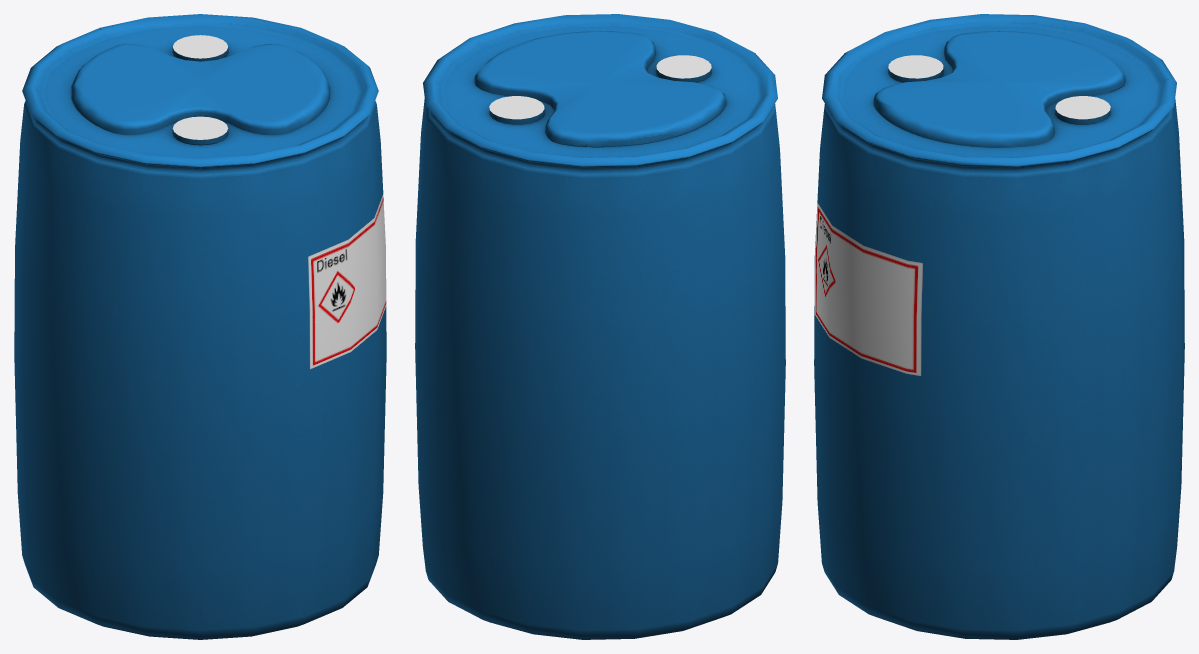
Rendered from diesel_L.fbx.
3 views of the same model, side by side, from view 1: azimuth 30°, elevation 25°; view 2: azimuth 150°, elevation 25°; view 3: azimuth 270°, elevation 25° (orthographic).
Parts seen in each view (by area): view 1: diesel_L; view 2: diesel_L; view 3: diesel_L.
Part boxes in pixels (x1,y1,x2,y2): diesel_L: (14, 14, 386, 639); diesel_L: (415, 14, 785, 639); diesel_L: (814, 14, 1184, 639).
Size of the model in its own units: 0.4067 by 0.5907 by 0.4067.
1 material, 1 textured.
